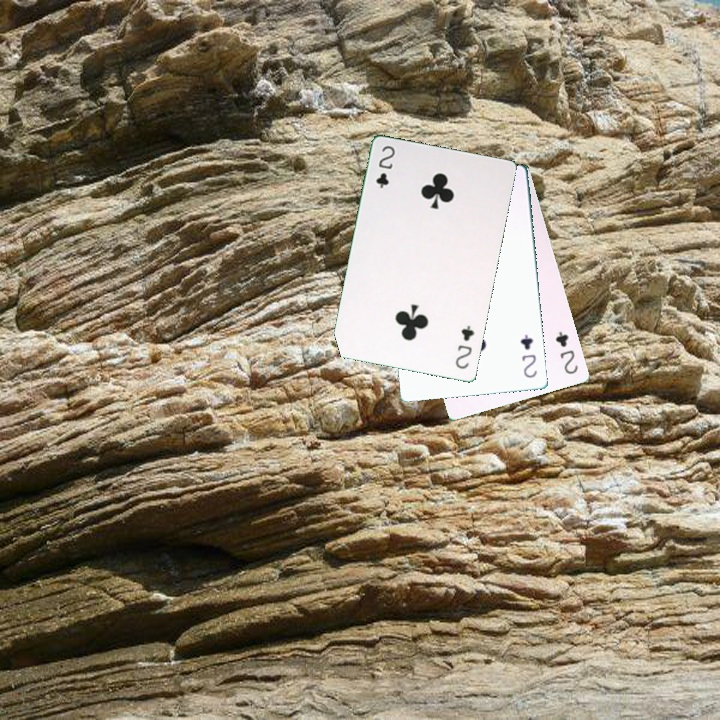2c: (551, 327, 580, 377), (451, 321, 477, 371), (372, 141, 398, 191), (516, 330, 540, 380)
